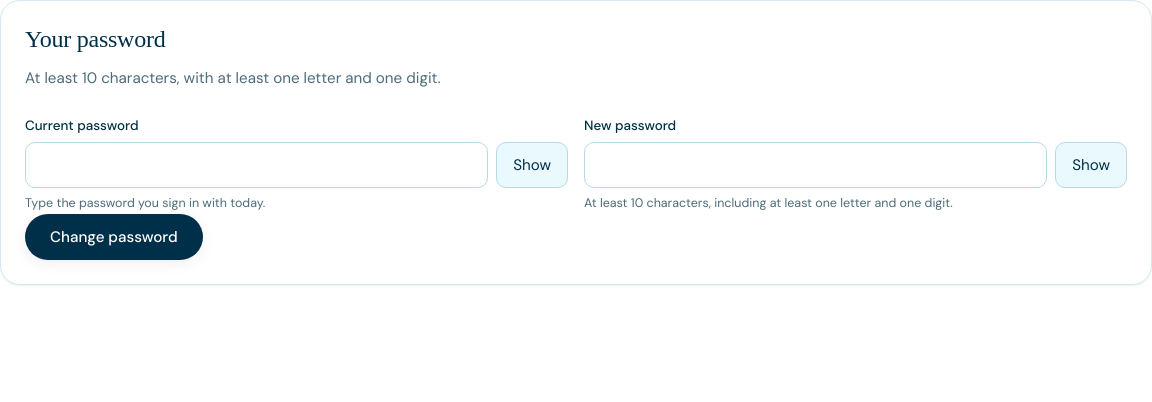
it: changing a password › changes it, says so, and empties both fields
Type "Indoora-2026" into the password field labelled "Current password" at (257, 165), box [25,142,488,188]
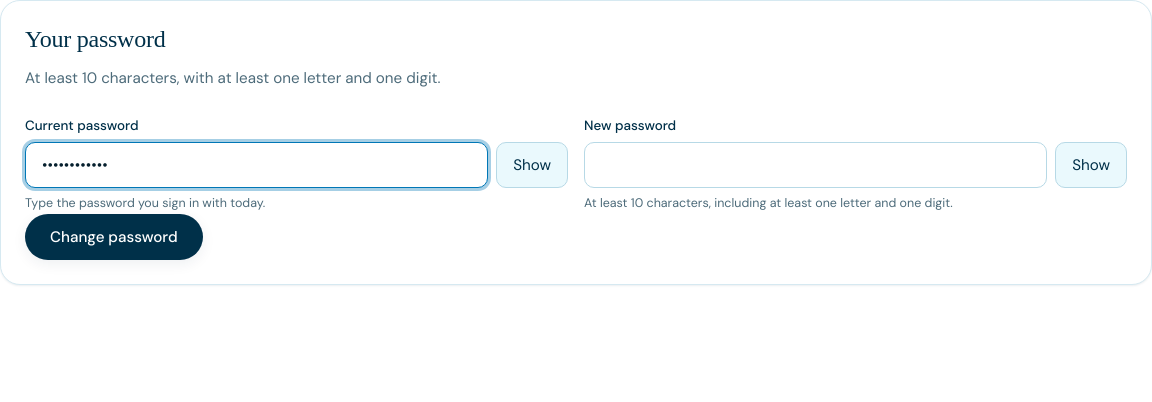
Type "Harbour-2026" into the password field labelled "New password" at (816, 165), box [584,142,1047,188]
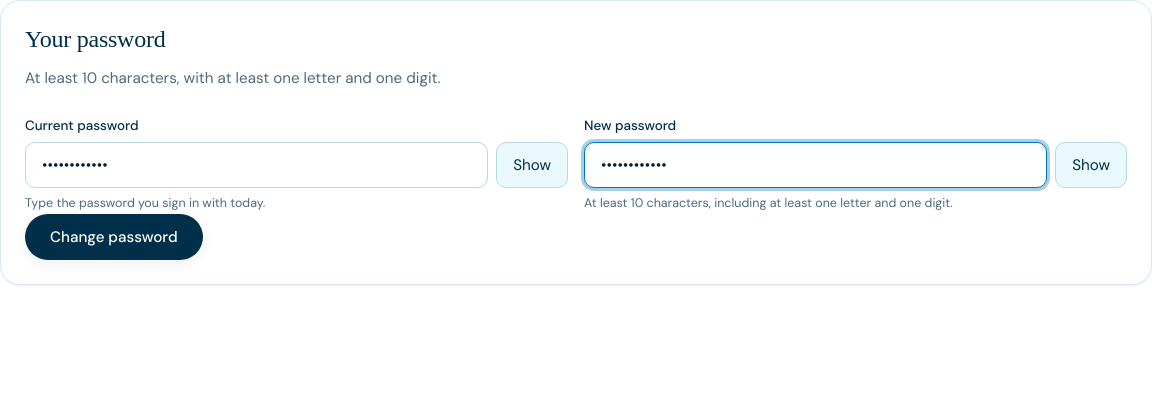
Click the button "Change password" at (114, 237), box [25,214,203,260]
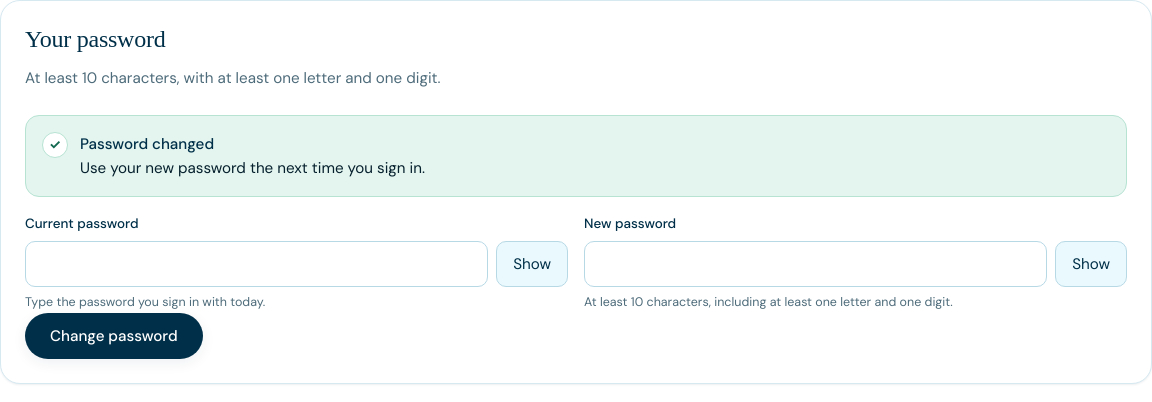
Result: the text "Use your new password the next time you sign in." is shown at [80,158,425,178]
Result: the password field labelled "Current password" is empty at [25,241,488,287]
Result: the password field labelled "New password" is empty at [584,241,1047,287]
